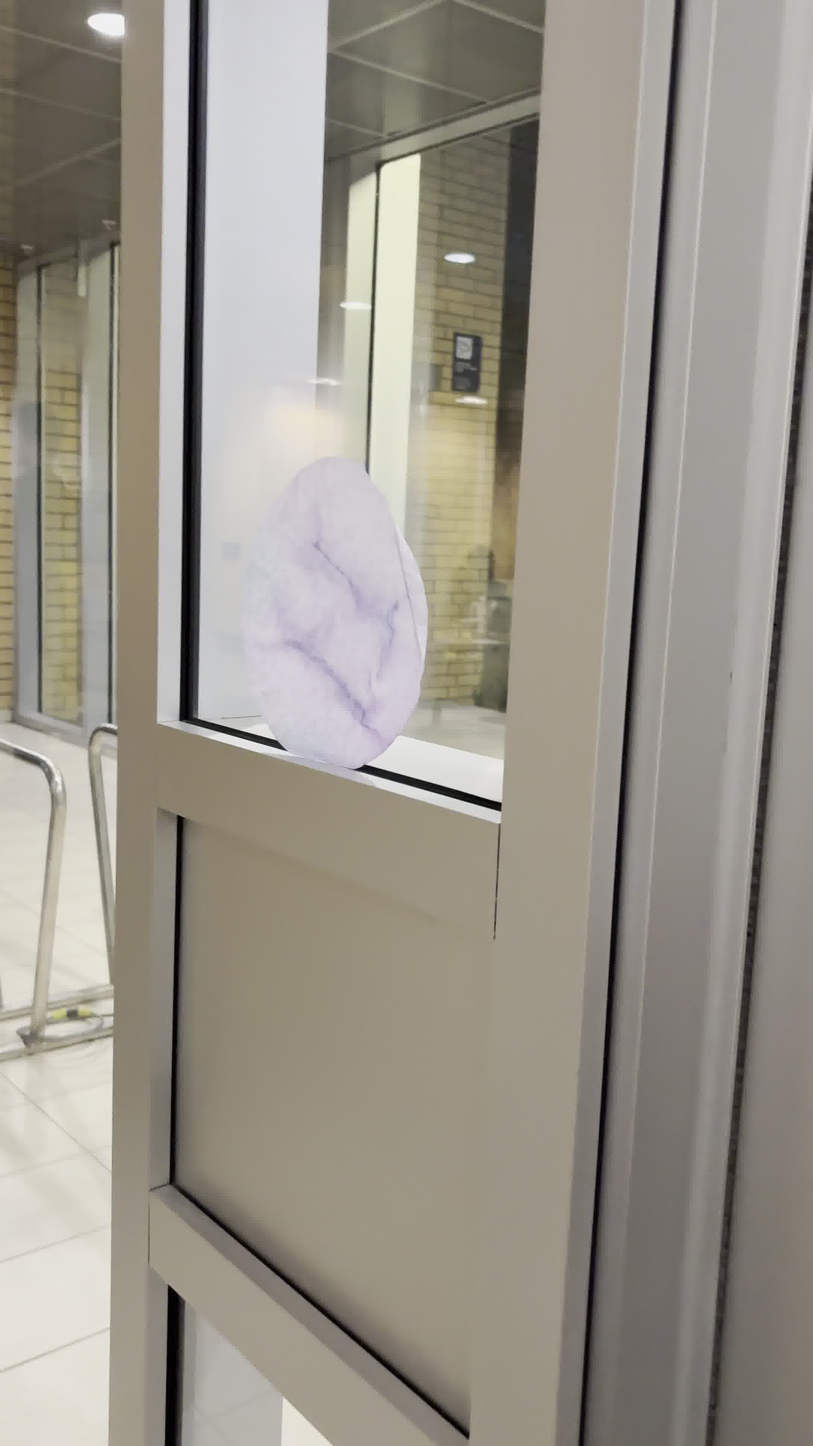Target: (232, 454, 428, 777)
